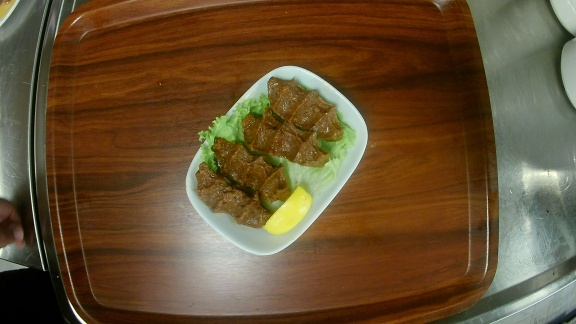cigkofte: (185, 66, 370, 257)
